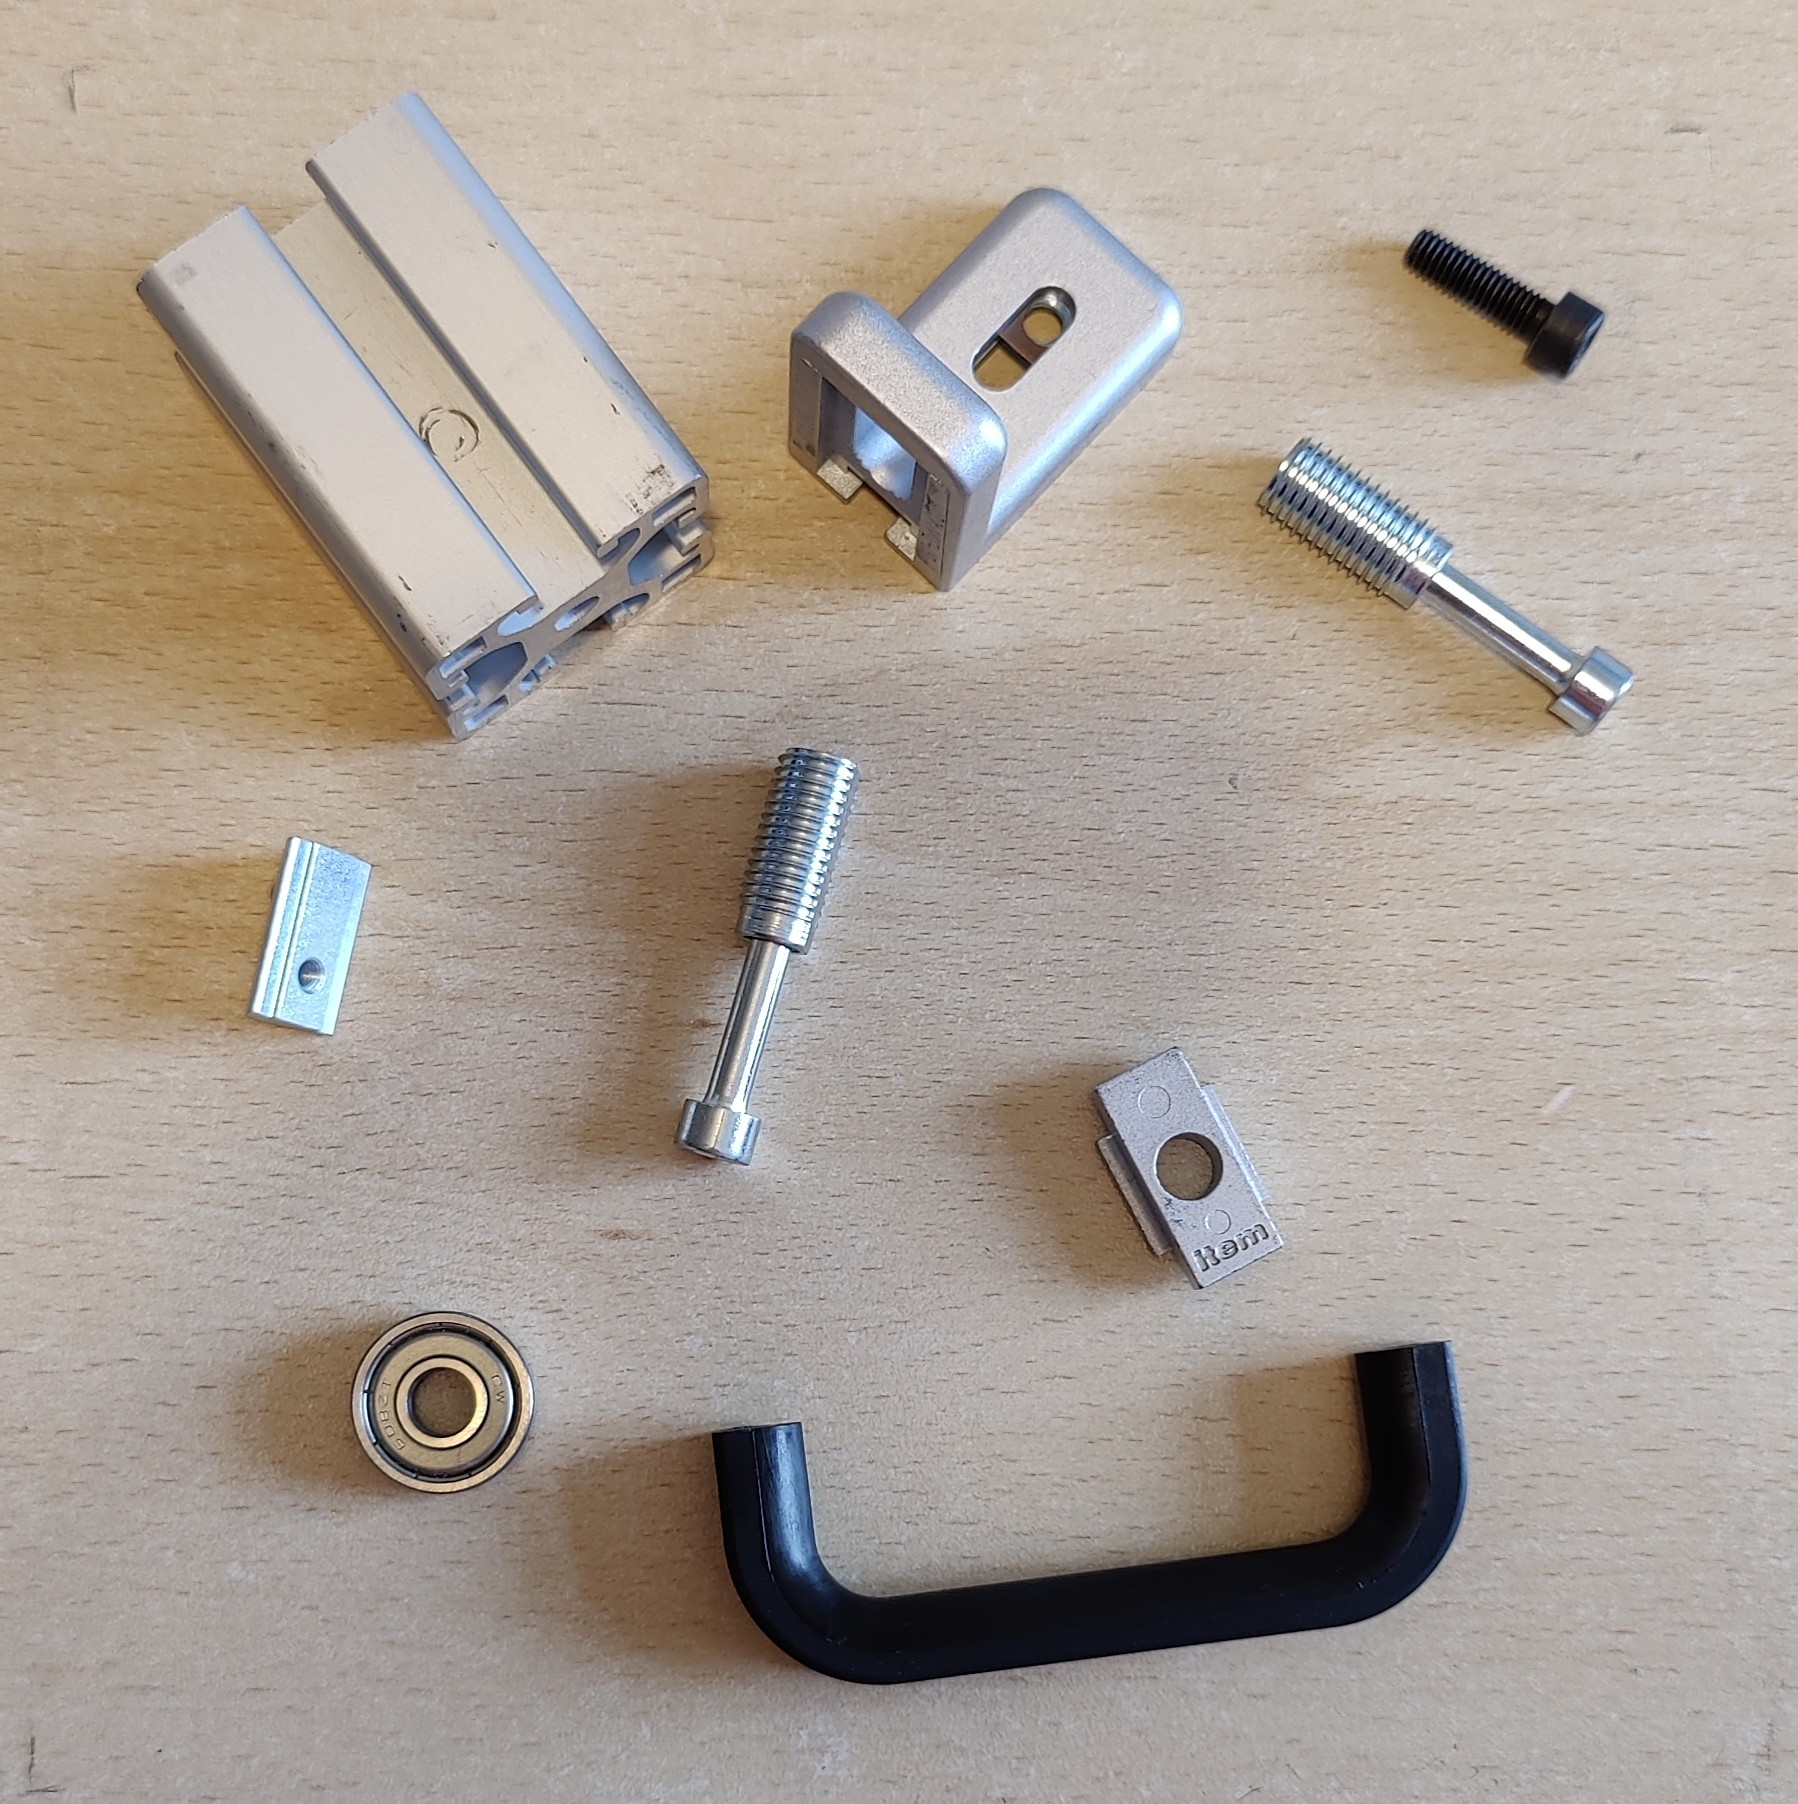Aluminium Extension: (132, 86, 721, 742)
Ball Bearing: (346, 1307, 537, 1496)
Multiwinkel: (780, 184, 1184, 597)
Pull Handle: (706, 1337, 1472, 1689)
Shoulder Socket Head Cap Screw: (1251, 436, 1638, 741), (673, 741, 863, 1167)
Socket Head Cap Screw: (1400, 225, 1609, 384)
T Nut Square: (1088, 1047, 1291, 1292)
T Spring Nut: (247, 835, 377, 1040)
